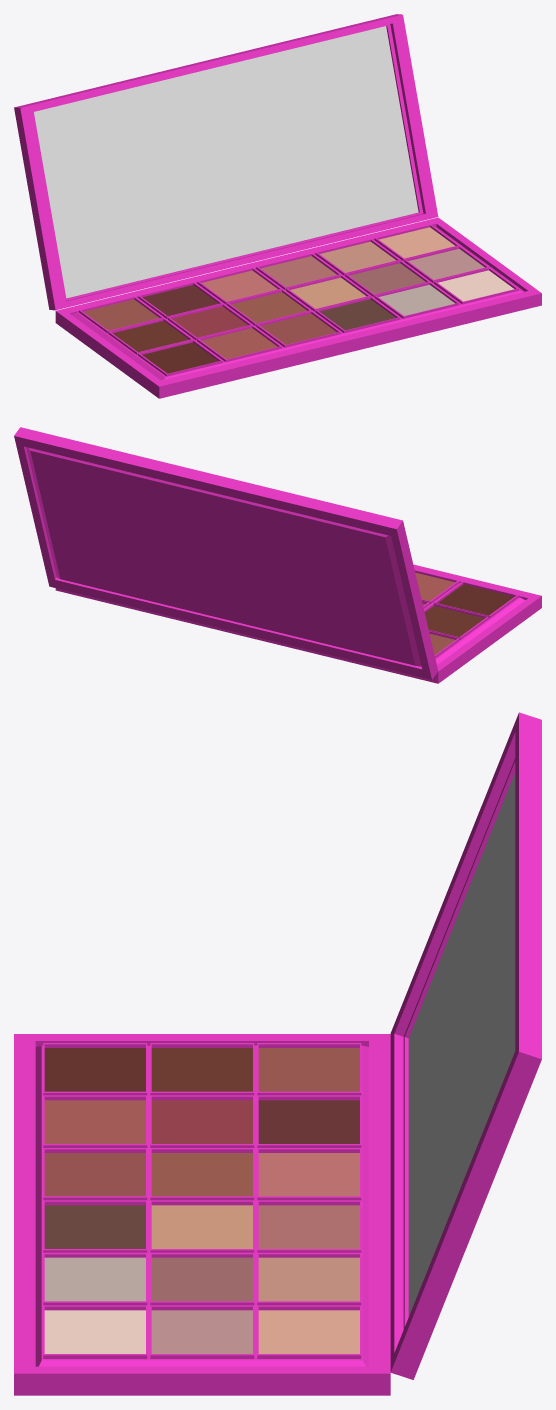
File: Makeup Palette.fbx
3 views of the same model, one above another, from view 1: azimuth 30°, elevation 25°; view 2: azimuth 150°, elevation 25°; view 3: azimuth 270°, elevation 25° (orthographic). The views are drawn at different scales.
Visible parts, largest first — view 1: MakeupPallette; view 2: MakeupPallette; view 3: MakeupPallette.
Boxes of the visible parts, <box> form: MakeupPallette: <box>14,14,541,398</box>; MakeupPallette: <box>14,427,541,683</box>; MakeupPallette: <box>14,712,541,1395</box>.
Size of the model in its own units: 15.28 by 7.22 by 10.04.
